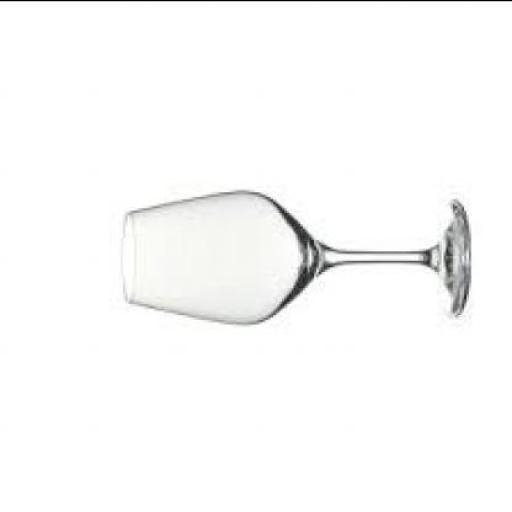glass: (121, 186, 469, 320)
